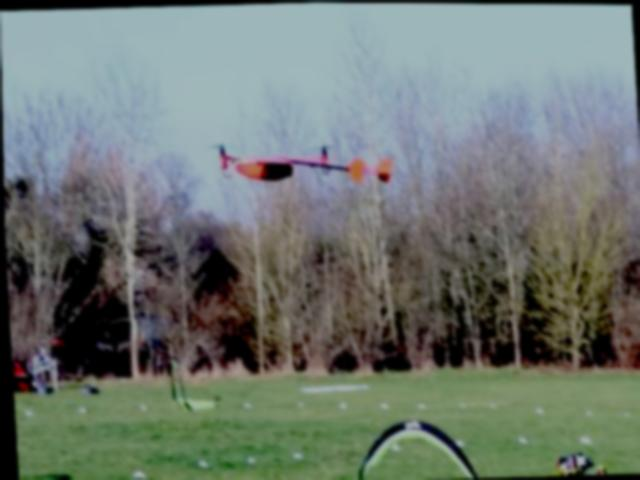uav: (203, 131, 400, 203)
